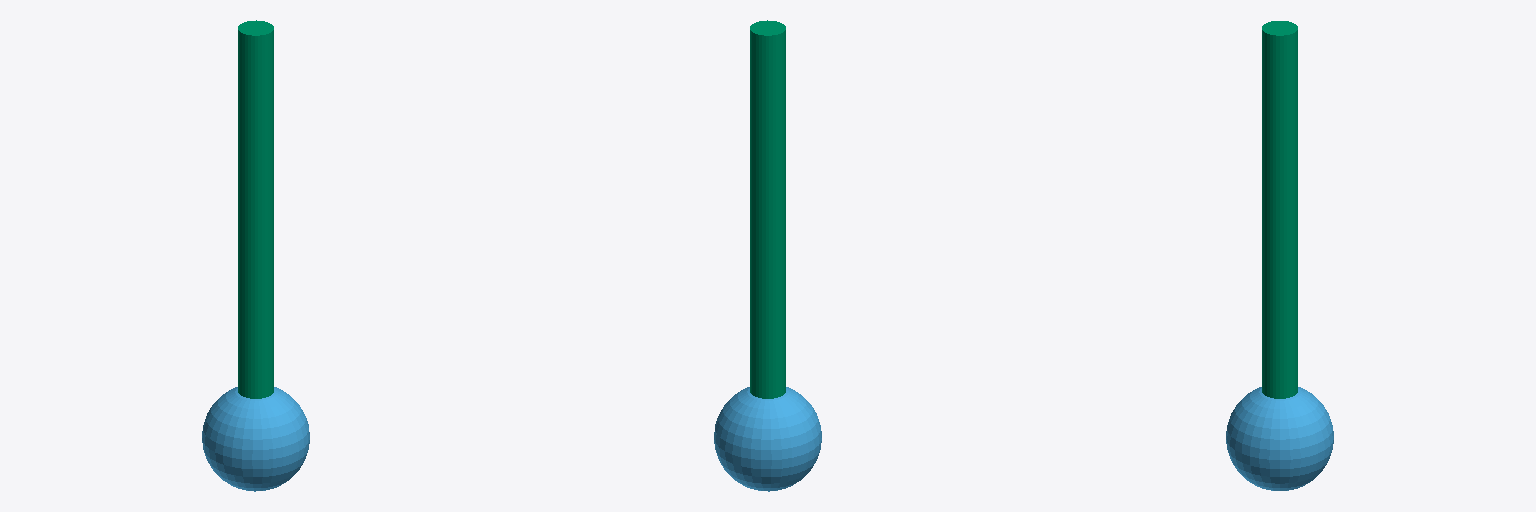
URDF robot description (pendulum):
<robot name="pendulum">

    <joint name="pendulum_joint" type="continuous">
      <origin xyz="0.18 0 0.0" rpy="3.14159625 0 0"/>
      <axis xyz="-1 0 0"/>
      <parent link="world"/>
      <child link="pendulum_link"/>
      <dynamics damping="0.01"/>
      <limit effort="0" velocity="0"/>
      <safety_controller k_velocity="0"/>
    </joint>

    <link name="world">
      <inertial>
        <mass value="0" />
        <origin xyz="0.0 0.0 0" rpy="0 0 0" />
        <inertia  ixx="0" ixy="0" ixz="0"
                  iyy="0" iyz="0"
                  izz="0" />
      </inertial>
    </link>

    <link name="pendulum_link">
      <inertial>
        <mass value="0.05" />
        <origin xyz="0.0 0.0 0.25" rpy="0 0 0" />
        <inertia  ixx="0.001" ixy="0.0" ixz="0.0"
                  iyy="0.001" iyz="0.0"
                  izz="0.001" />
      </inertial>
      <visual>
        <origin xyz="0 0 0.25" rpy="0 0 0" />
        <geometry>
          <sphere radius="0.03"/>
        </geometry>
        <material name="Red" />
      </visual>
      <collision>
        <origin xyz="0 0 0.25" rpy="0 0 0" />
        <geometry>
          <sphere radius="0.03"/>
        </geometry>
      </collision>
    </link>
    
    <joint name="pendulum_fixed_joint" type="fixed">
      <origin xyz="0 0 0" rpy="0 0 0" />
      <parent link="pendulum_link"/>
      <child link="pendulum_rod_link"/>
    </joint>

    <link name="pendulum_rod_link">
      <inertial>
        <mass value="0.001" />
        <origin xyz="0 0 0" rpy="0 0 0" />
        <inertia  ixx="0.001" ixy="0.0" ixz="0.0"
                  iyy="0.001" iyz="0.0"
                  izz="0.001" />
      </inertial>
      <visual>
        <origin xyz="0 0 0.125" rpy="0 0 0" />
        <geometry>
          <cylinder radius="0.01" length="0.25"/>
        </geometry>
        <material name="Red" />
      </visual>
      <collision>
        <origin xyz="0 0 0.125" rpy="0 0 0" />
        <geometry>
          <cylinder radius="0.01" length="0.25"/>
        </geometry>
      </collision>
    </link>
</robot>

--- Facts derived from the render (not from the file) ---
3 views of the same robot in one strip: view 1: azimuth 30°, elevation 25°; view 2: azimuth 150°, elevation 25°; view 3: azimuth 270°, elevation 25° (orthographic).
Model pendulum with 3 links and 2 joints (1 continuous, 1 fixed), rooted at world, posed all joints at 0.
Links seen in each view (by area): view 1: pendulum_rod_link, pendulum_link; view 2: pendulum_rod_link, pendulum_link; view 3: pendulum_rod_link, pendulum_link.
Link boxes in pixels (<box>): pendulum_rod_link: <box>238,20,273,398</box>; pendulum_link: <box>202,387,309,491</box>; pendulum_rod_link: <box>750,20,785,398</box>; pendulum_link: <box>714,387,821,491</box>; pendulum_rod_link: <box>1262,21,1297,398</box>; pendulum_link: <box>1226,387,1333,490</box>.
Size in the robot's own frame: 0.06 by 0.06 by 0.28 metres.
Geometry: primitives only (box / cylinder / sphere), no mesh files.